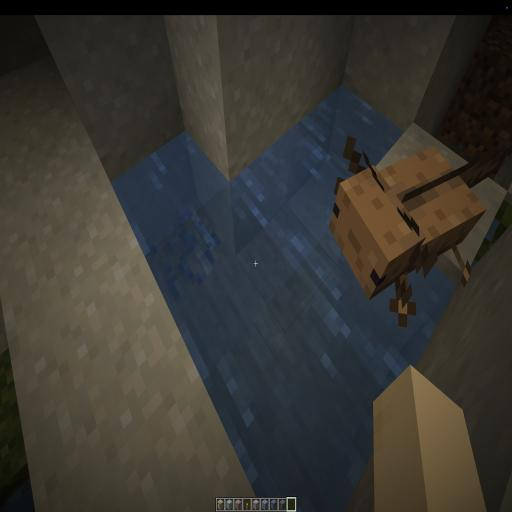lapis ore: (143, 201, 224, 298)
